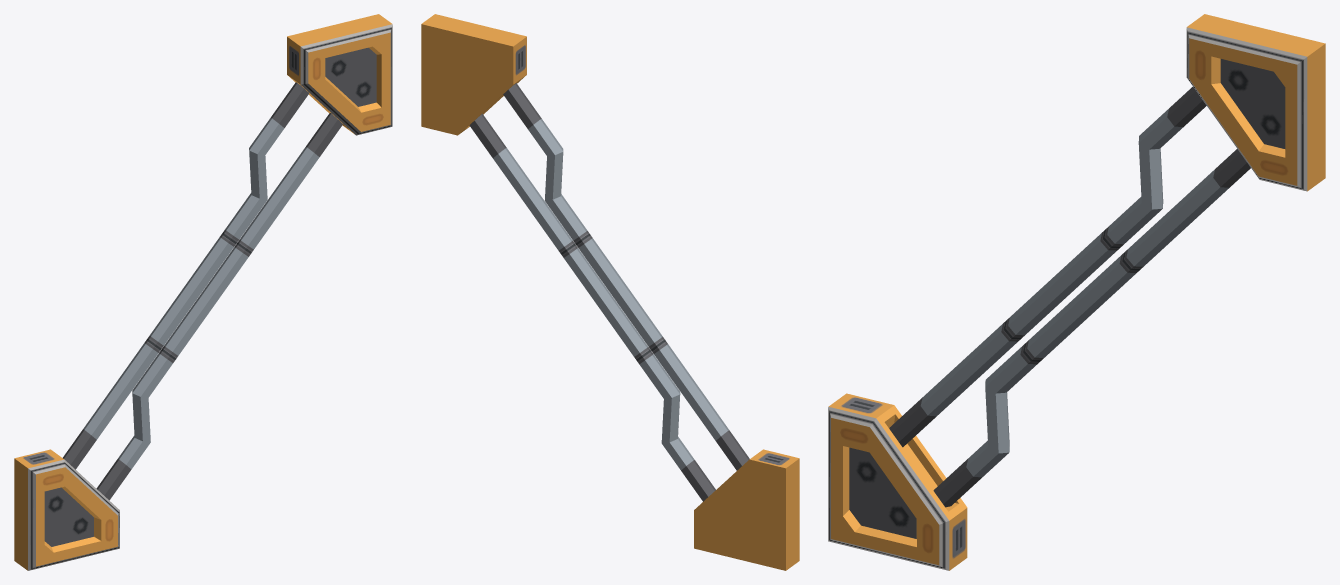
The model's file is SM_Bld_Wall_Trim_02.fbx.
3 renders of one model, left to right at view 1: azimuth 30°, elevation 25°; view 2: azimuth 150°, elevation 25°; view 3: azimuth 330°, elevation 25°, orthographic. The views are drawn at different scales.
Parts seen in each view (by area): view 1: SM_Bld_Wall_Trim_02; view 2: SM_Bld_Wall_Trim_02; view 3: SM_Bld_Wall_Trim_02.
Part boxes in pixels (x1,y1,x2,y2): SM_Bld_Wall_Trim_02: (14,14,392,570); SM_Bld_Wall_Trim_02: (421,14,799,570); SM_Bld_Wall_Trim_02: (828,14,1325,570).
Bounding box in the file's own units: 250 × 300 × 19.75.
